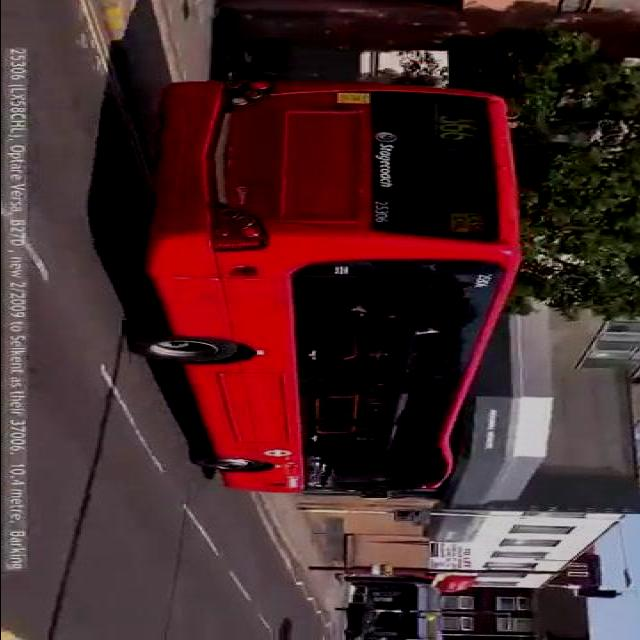bus: (126, 77, 528, 500)
